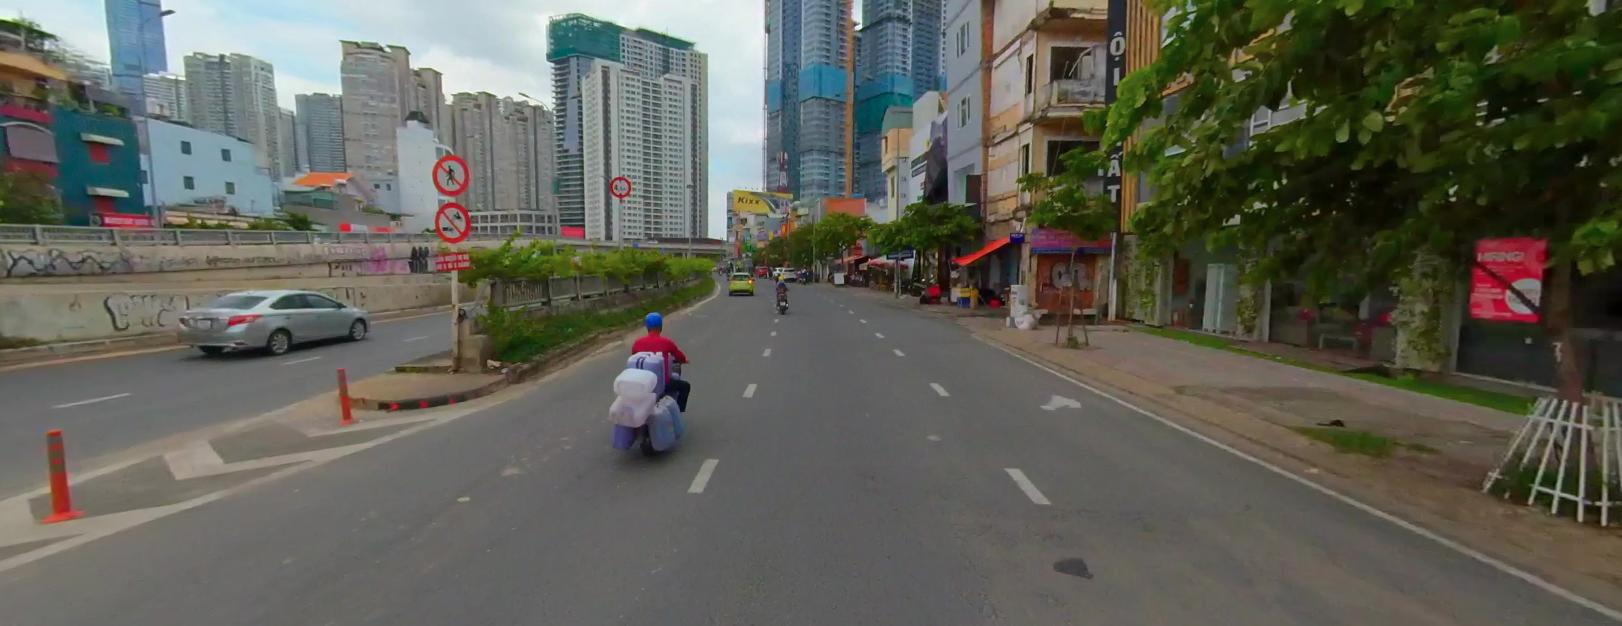Cam con lai: (432, 199, 470, 242), (432, 153, 468, 195), (609, 174, 630, 197)
